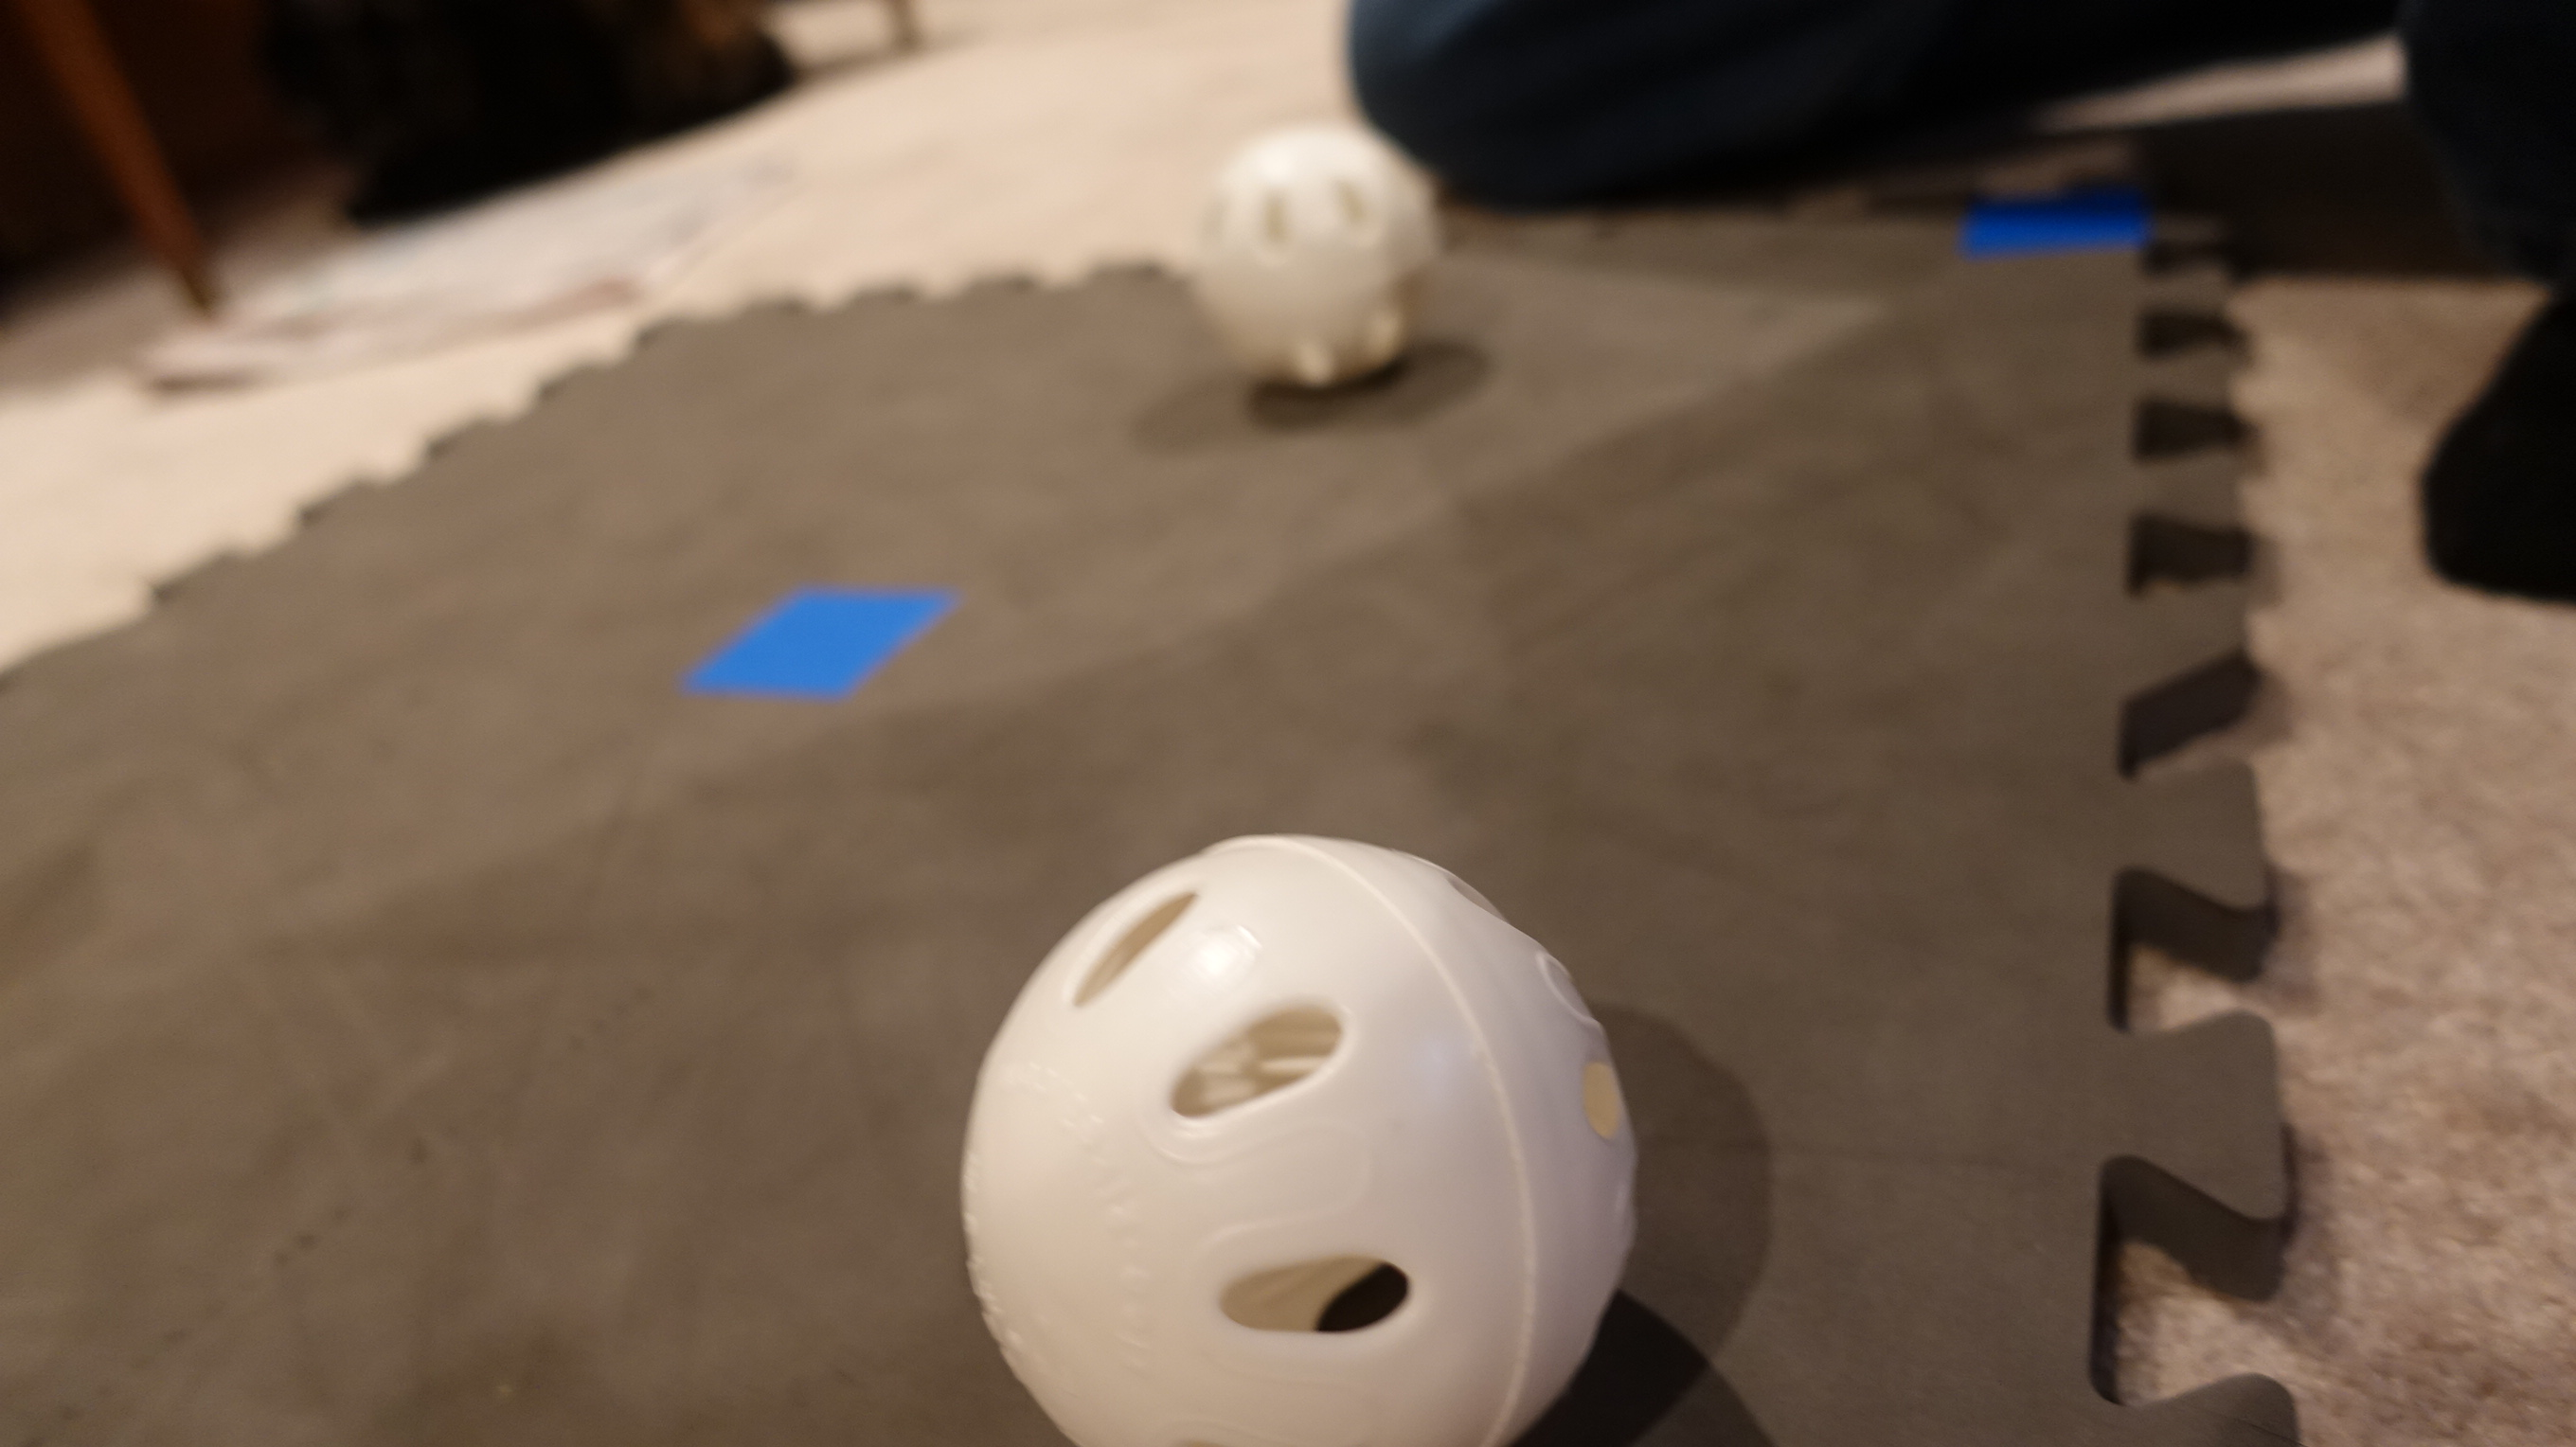silver: (943, 826, 1684, 1447), (1187, 124, 1454, 393)
